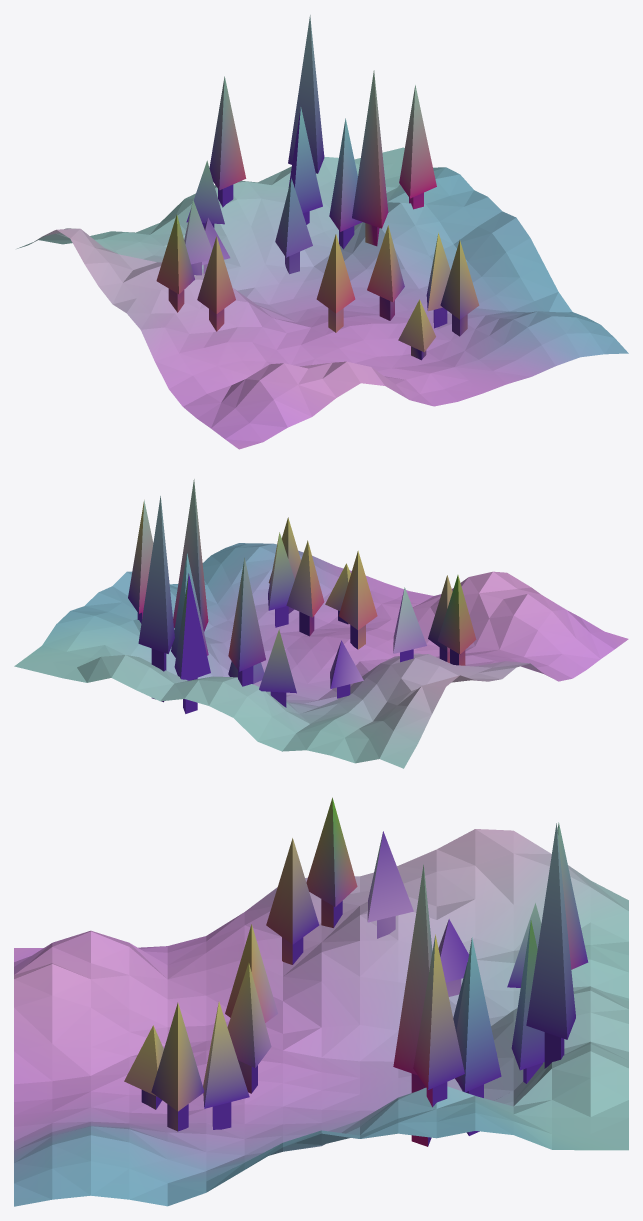
File: vc_diorama_001.fbx
3 renders of one model, top to bottom at view 1: azimuth 30°, elevation 25°; view 2: azimuth 150°, elevation 25°; view 3: azimuth 270°, elevation 25°, orthographic. The views are drawn at different scales.
Parts seen in each view (by area): view 1: ground, trees; view 2: ground, trees; view 3: ground, trees.
Part boxes in pixels (<box>): ground: <box>17,147,628,449</box>; trees: <box>156,15,479,360</box>; ground: <box>14,543,628,768</box>; trees: <box>128,479,476,713</box>; ground: <box>14,829,628,1206</box>; trees: <box>124,797,588,1146</box>.
Size of the model in its own units: 100 by 56.28 by 100.
